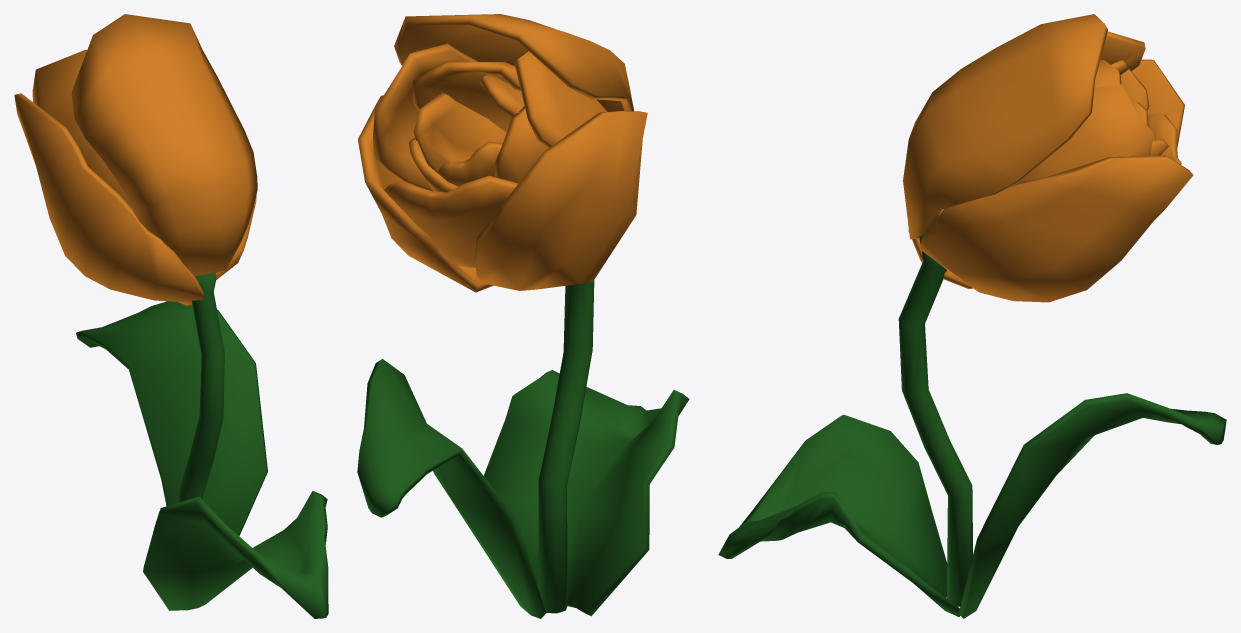
The model's file is Tulp1.fbx.
3 views of the same model, side by side, from view 1: azimuth 30°, elevation 25°; view 2: azimuth 150°, elevation 25°; view 3: azimuth 270°, elevation 25° (orthographic). The views are drawn at different scales.
Visible parts, largest first — view 1: Cylinder.022; view 2: Cylinder.022; view 3: Cylinder.022.
Part boxes in pixels (<box>): Cylinder.022: <box>14,14,328,618</box>; Cylinder.022: <box>357,14,689,618</box>; Cylinder.022: <box>718,14,1226,618</box>.
Size of the model in its own units: 0.3108 by 0.8351 by 0.6592.
